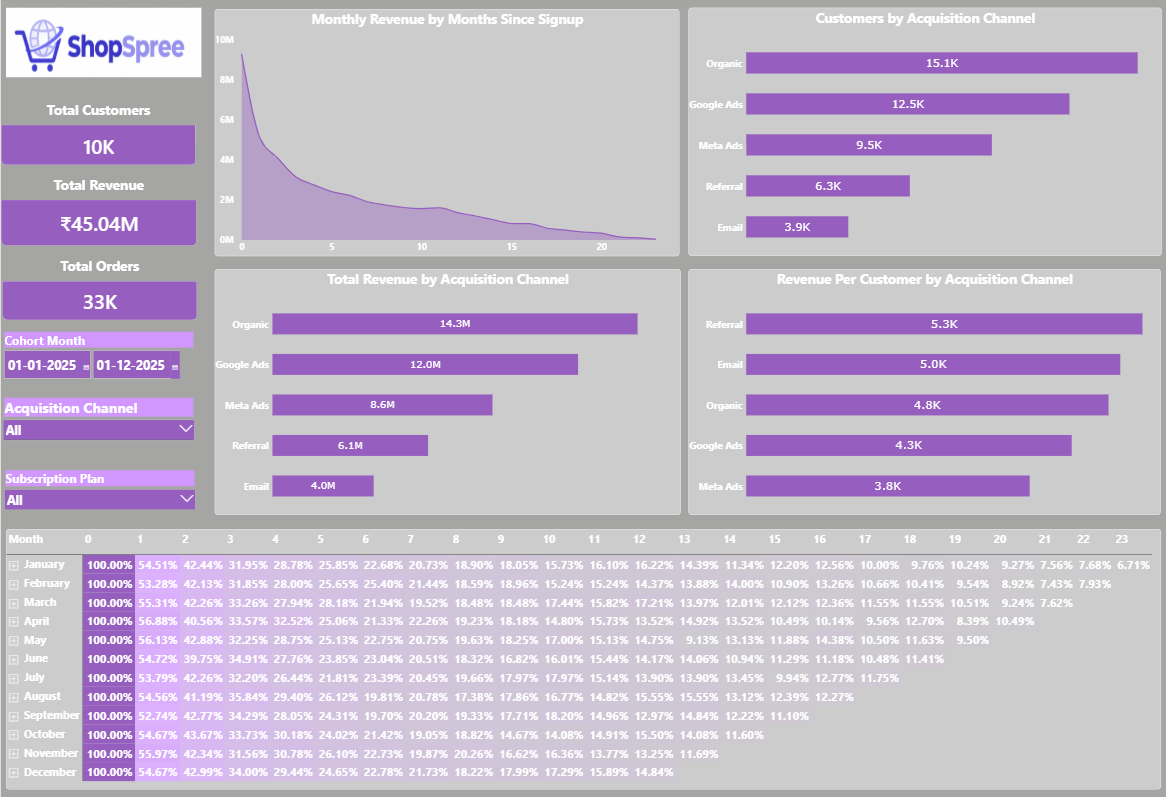

Layout of this report page (visuals, bound fields, positions):
{"tool":"powerbi","page":{"name":"Page 1","canvas":[2845,1950],"ordinal":0},"visuals":[{"type":"cardVisual","title":"Total Customers","fields":{"Data":["cohort_analysis_synthetic_dataset.Total Customers"]},"box":[0,247,475.8,158.6],"z":0},{"type":"cardVisual","title":"Total Orders","fields":{"Data":["cohort_analysis_synthetic_dataset.Total Orders"]},"box":[3,628.3,475.8,155.5],"z":1000},{"type":"cardVisual","title":"Total Revenue","fields":{"Data":["cohort_analysis_synthetic_dataset.Total Revenue"]},"box":[0,430,477.2,173],"z":2000},{"type":"lineChart","title":"Monthly Revenue by Months Since Signup","fields":{"Category":["cohort_analysis_synthetic_dataset.months_since_signup"],"Y":["Sum(cohort_analysis_synthetic_dataset.revenue)"]},"box":[521.6,24.1,1133.6,603],"z":3000},{"type":"pivotTable","fields":{"Columns":["cohort_analysis_synthetic_dataset.months_since_signup"],"Rows":["cohort_analysis_synthetic_dataset.cohort_month.Variation.Date Hierarchy.Month","cohort_analysis_synthetic_dataset.cohort_month.Variation.Date Hierarchy.Day"],"Values":["cohort_analysis_synthetic_dataset.Observed Activity %"]},"box":[12.1,1293.4,2818.4,635.3],"z":4000},{"type":"clusteredBarChart","title":"Total Revenue by Acquisition Channel","fields":{"Category":["cohort_analysis_synthetic_dataset.acquisition_channel"],"Y":["Sum(cohort_analysis_synthetic_dataset.revenue)"]},"box":[521.6,660.3,1136.6,600],"z":5000},{"type":"clusteredBarChart","title":"Customers by Acquisition Channel","fields":{"Category":["cohort_analysis_synthetic_dataset.acquisition_channel"],"Y":["CountNonNull(cohort_analysis_synthetic_dataset.customer_id)"]},"box":[1676.3,21.1,1154.7,606],"z":6000},{"type":"clusteredBarChart","title":"Revenue Per Customer by Acquisition Channel","fields":{"Category":["cohort_analysis_synthetic_dataset.acquisition_channel"],"Y":["cohort_analysis_synthetic_dataset.Revenue Per Customer"]},"box":[1676.3,660.3,1151.7,600],"z":7000},{"type":"slicer","fields":{"Values":["cohort_analysis_synthetic_dataset.cohort_month"]},"box":[0,811,477.2,220.7],"z":8000},{"type":"slicer","fields":{"Values":["cohort_analysis_synthetic_dataset.acquisition_channel"]},"box":[0,973.8,477.2,119.3],"z":9000},{"type":"slicer","fields":{"Values":["cohort_analysis_synthetic_dataset.plan_at_signup"]},"box":[3,1148.7,476.5,111.6],"z":10000},{"type":"image","box":[12.2,21.3,477,169.9],"z":11000}]}

Visuals, with their boxes in screenshot pixels (x1, y1, x2, y2), scaled from the page's 2845x1950 canvas onto the 1166x797 screenshot:
"Total Customers" cardVisual: 0 101 195 166
"Total Orders" cardVisual: 1 257 196 320
"Total Revenue" cardVisual: 0 176 196 246
"Monthly Revenue by Months Since Signup" lineChart: 214 10 678 256
pivotTable - cohort_analysis_synthetic_dataset.months_since_signup x cohort_analysis_synthetic_dataset.cohort_month.Variation.Date Hierarchy.Month: 5 529 1160 788
"Total Revenue by Acquisition Channel" clusteredBarChart: 214 270 680 515
"Customers by Acquisition Channel" clusteredBarChart: 687 9 1160 256
"Revenue Per Customer by Acquisition Channel" clusteredBarChart: 687 270 1159 515
slicer - cohort_analysis_synthetic_dataset.cohort_month: 0 331 196 422
slicer - cohort_analysis_synthetic_dataset.acquisition_channel: 0 398 196 447
slicer - cohort_analysis_synthetic_dataset.plan_at_signup: 1 469 197 515
image: 5 9 200 78
